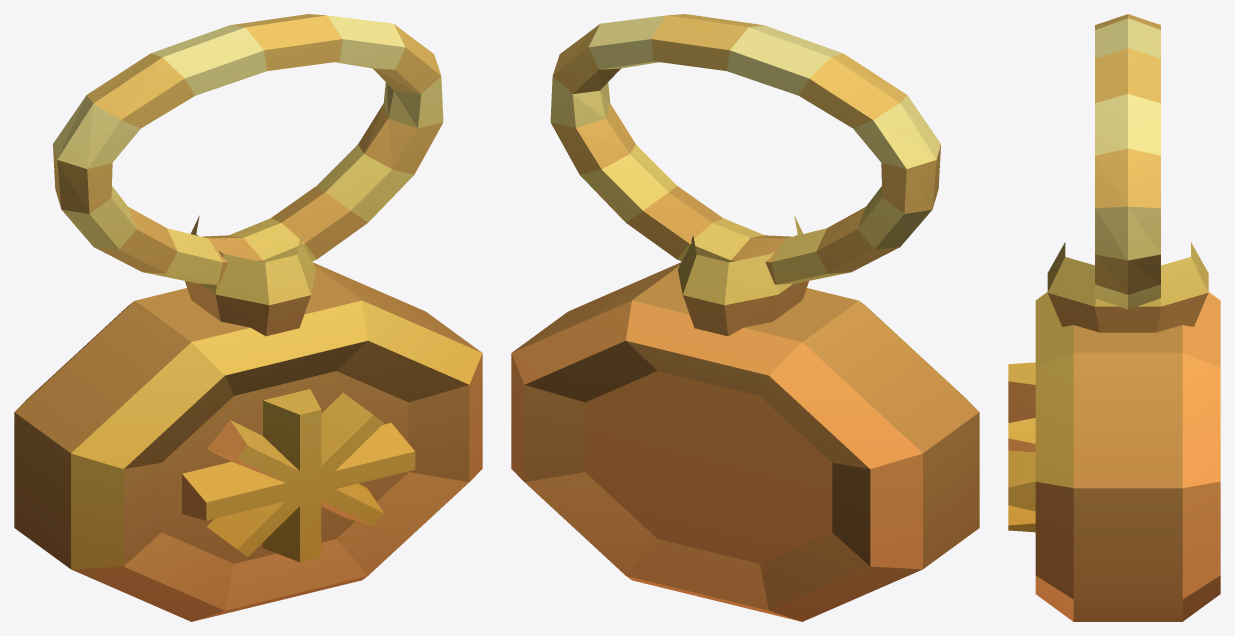
File: source.glb
The picture shows the model from 3 angles, left to right: view 1: azimuth 30°, elevation 25°; view 2: azimuth 150°, elevation 25°; view 3: azimuth 270°, elevation 25°; orthographic projection. The views are drawn at different scales.
Parts seen in each view (by area): view 1: model; view 2: model; view 3: model.
Boxes of the visible parts, x1,y1,x2,y2 form: model: (14,14,482,621); model: (511,14,979,621); model: (1008,14,1220,621).
Bounding box in the file's own units: 0.56 × 0.72 × 0.26.
1 material, 1 textured.
